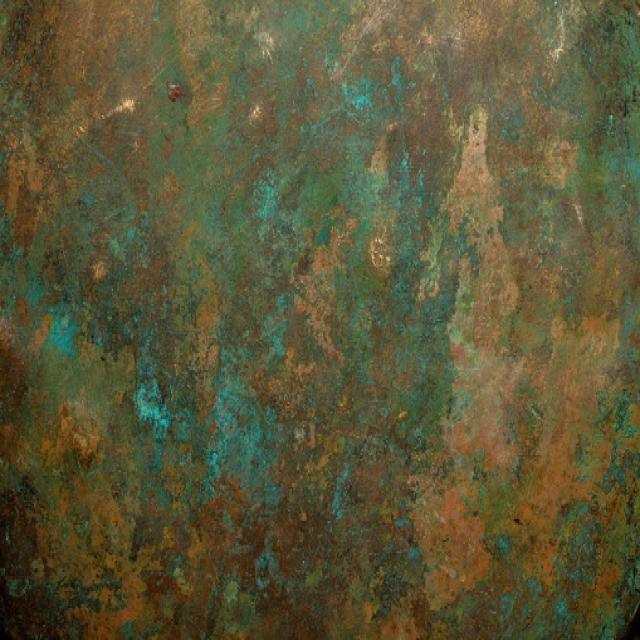corrosion: (0, 0, 640, 640), (266, 77, 421, 254), (450, 108, 525, 468), (547, 156, 600, 584), (201, 340, 283, 508), (412, 465, 488, 591), (591, 1, 640, 151), (121, 354, 180, 450), (38, 308, 78, 348)
